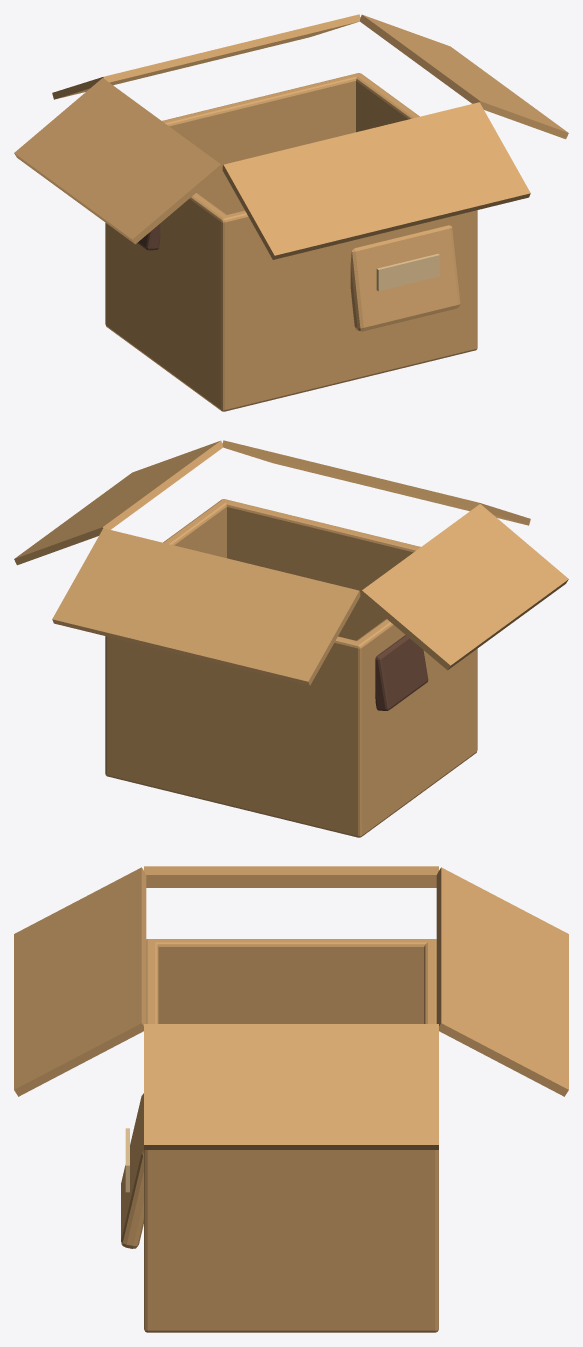
The model's file is box_open_damaged.glb.
The picture shows the model from 3 angles, top to bottom: view 1: azimuth 30°, elevation 25°; view 2: azimuth 150°, elevation 25°; view 3: azimuth 270°, elevation 25°; orthographic projection. The views are drawn at different scales.
Parts seen in each view (by area): view 1: box_open_damaged; view 2: box_open_damaged; view 3: box_open_damaged.
Boxes of the visible parts, x1,y1,x2,y2 form: box_open_damaged: [14, 14, 568, 411]; box_open_damaged: [14, 440, 568, 837]; box_open_damaged: [14, 866, 568, 1332].
Size of the model in its own units: 0.8524 by 0.4652 by 0.7524.
